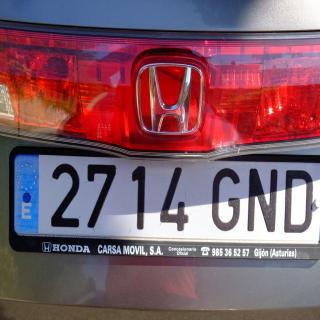license: (9, 153, 320, 262)
